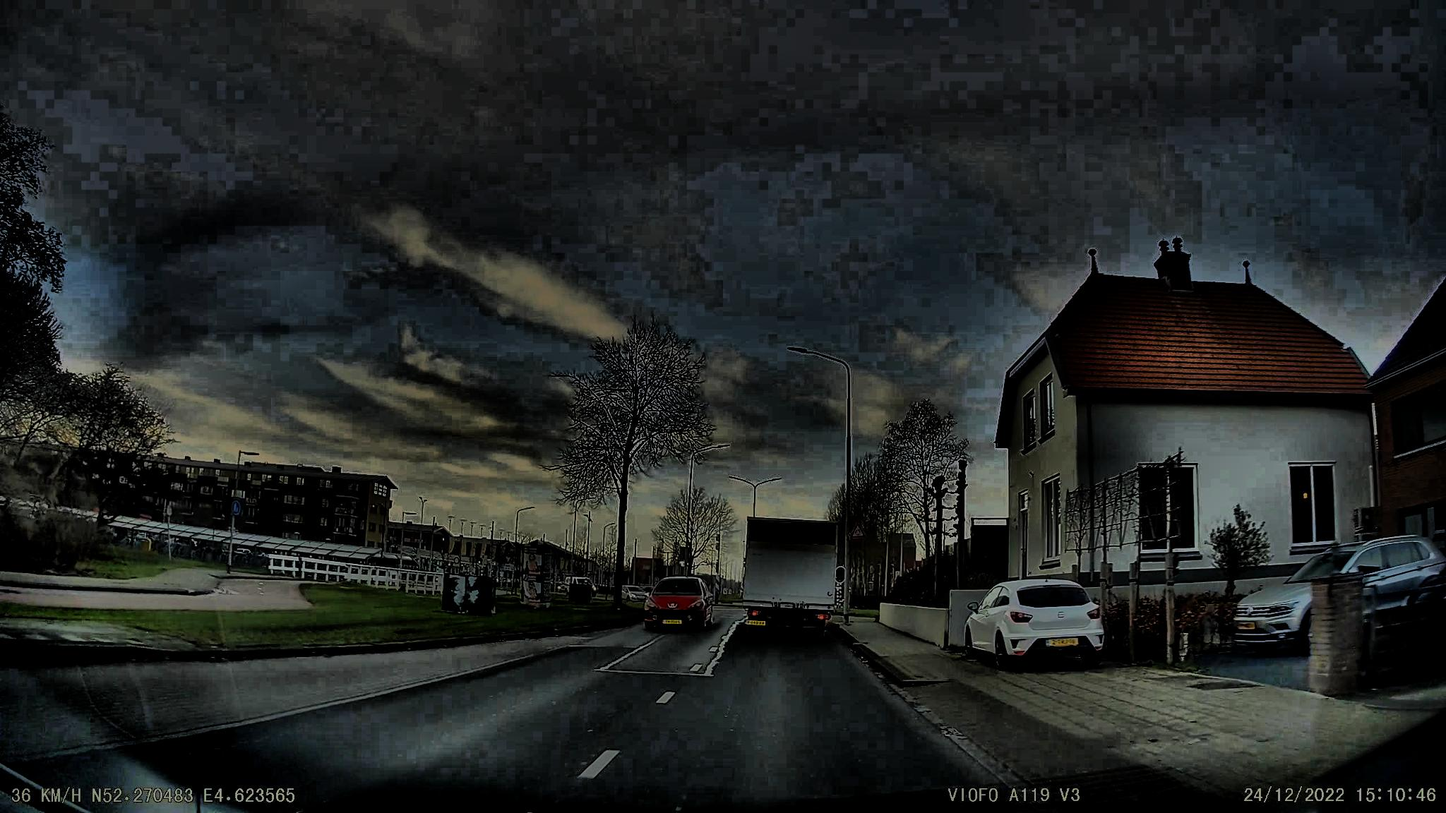Roads: (0, 629, 1012, 813)
